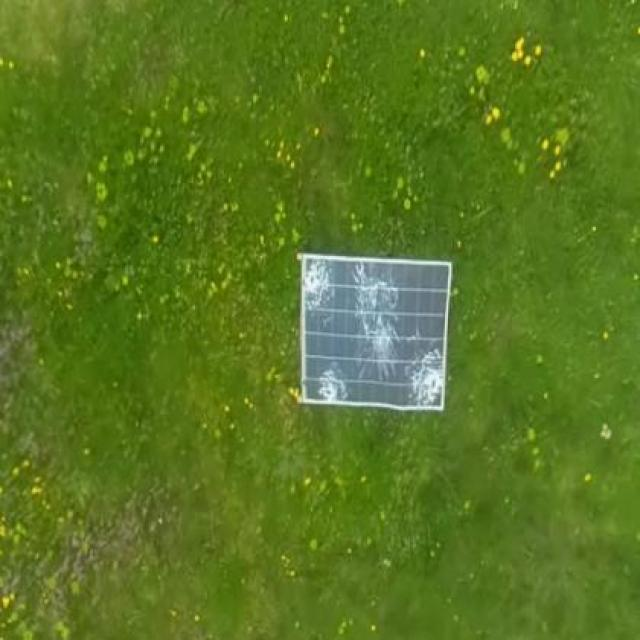cracked: (296, 249, 456, 412)
